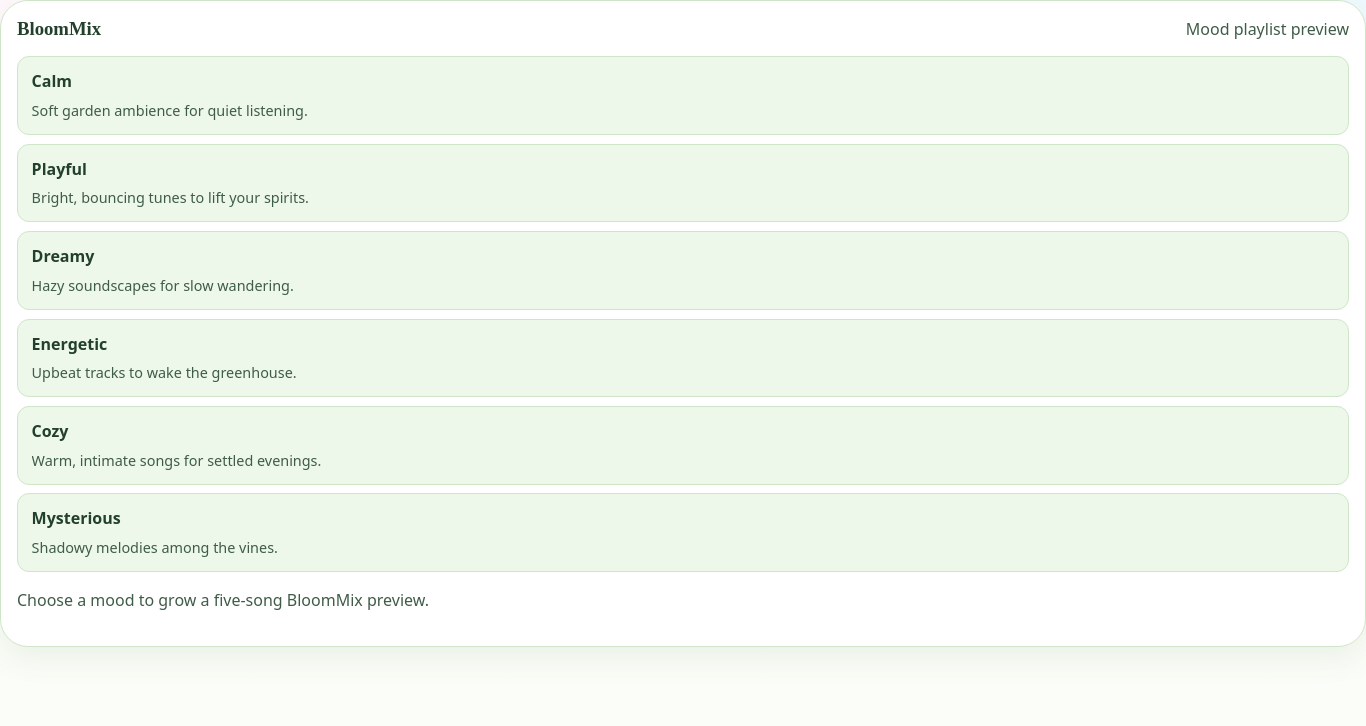
Test: BloomMixPanel › marks the selected mood as pressed and shows a Selected label
Click the button "Calm Soft garden ambience for quiet listening." at (52, 81), box [17,56,1349,135]
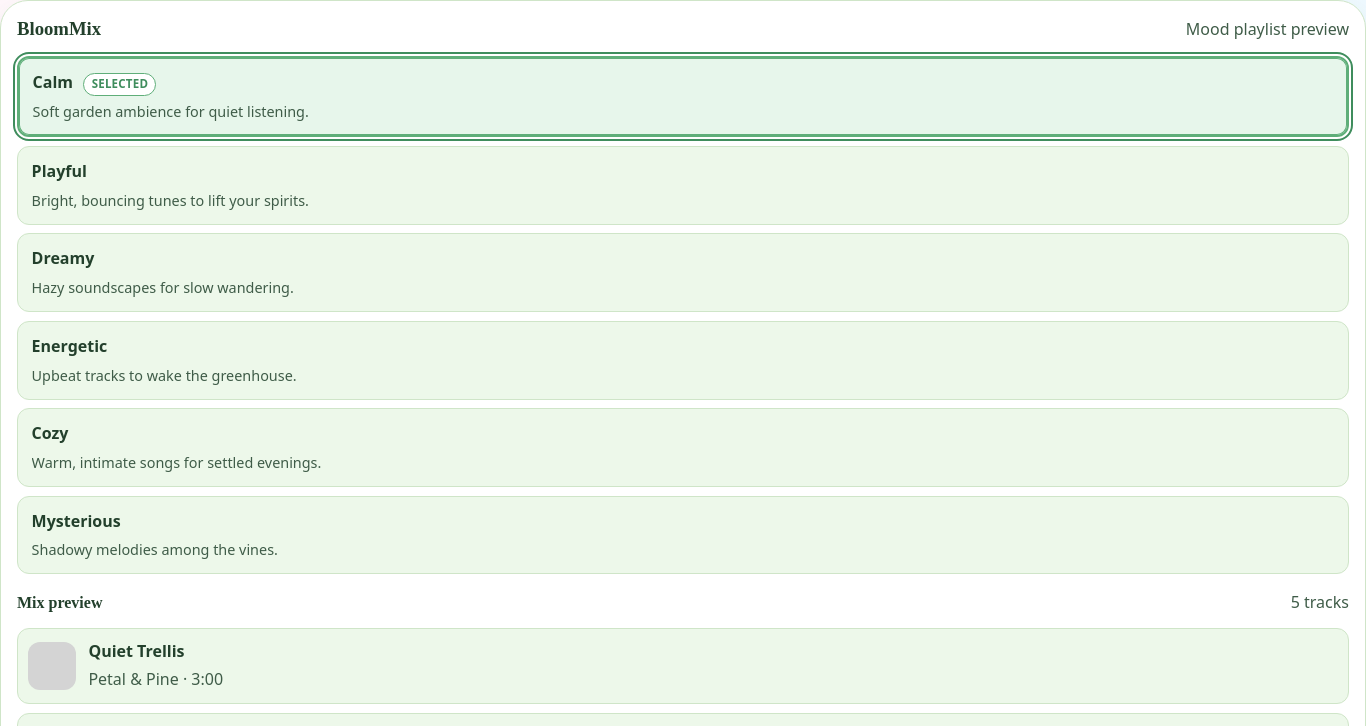
Check: the text "Selected" is shown, box [83,73,156,96]
